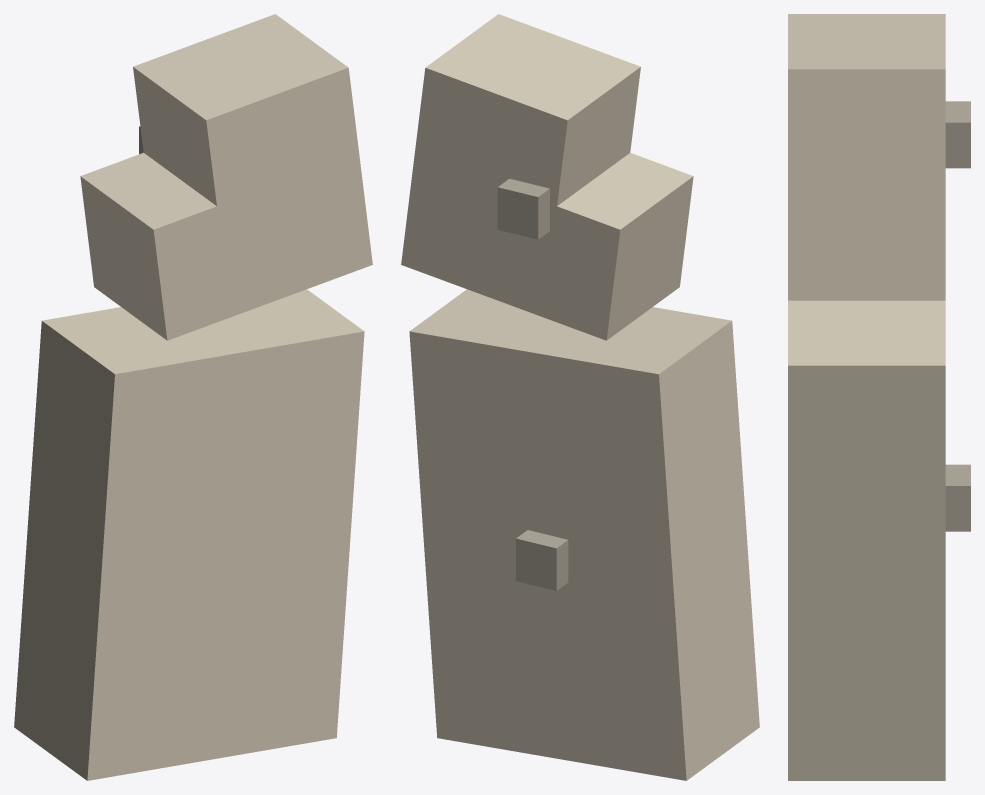
The model's file is historic-palestine-16_39_3579_3334.glb.
The picture shows the model from 3 angles, left to right: view 1: azimuth 30°, elevation 25°; view 2: azimuth 150°, elevation 25°; view 3: azimuth 270°, elevation 25°; orthographic projection. The views are drawn at different scales.
Visible parts, largest first — view 1: Building_, Building_.001; view 2: Building_, Building_.001, Roof access hut, Roof access hut .001; view 3: Building_, Building_.001, Roof access hut, Roof access hut .001.
Part boxes in pixels (x1,y1,x2,y2): Building_: (14,289,364,780); Building_.001: (80,14,372,340); Building_: (409,289,759,780); Building_.001: (401,14,693,340); Roof access hut: (516,530,568,590); Roof access hut .001: (497,178,549,239); Building_: (788,300,945,780); Building_.001: (788,14,945,300); Roof access hut: (945,464,970,531); Roof access hut .001: (945,101,970,168).
Bounding box in the file's own units: 16.87 × 37.69 × 8.7.
